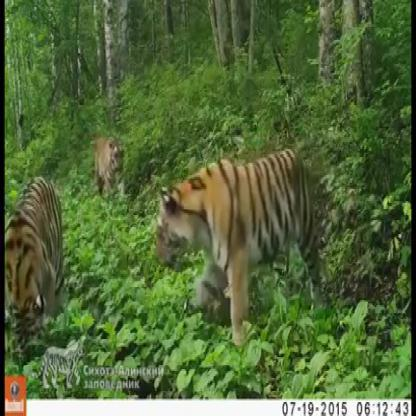Tiger: (152, 141, 331, 349), (5, 169, 72, 354), (94, 131, 128, 205)
